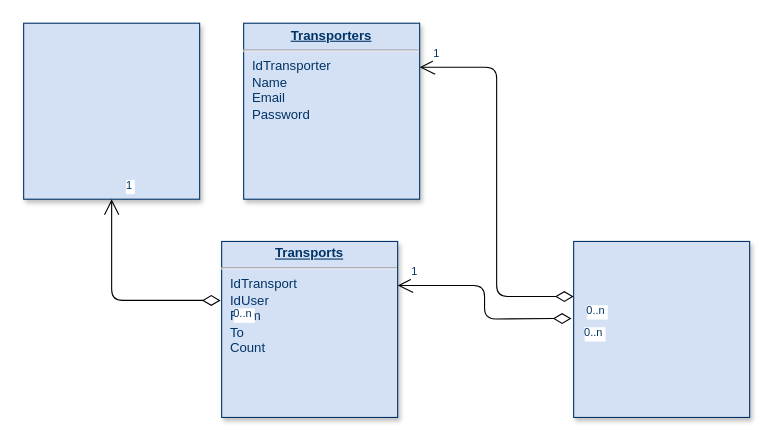
This 776x446 diagram has some shape labels left out. The shapes that lost their labels are listed below. From the top down, each one's centre as x and y in pixels, then its label:
At point (112, 112): "Users IdUser Name Email Password".
At point (662, 330): "Offers IdOffer IdTransporter IdTransport Price".
